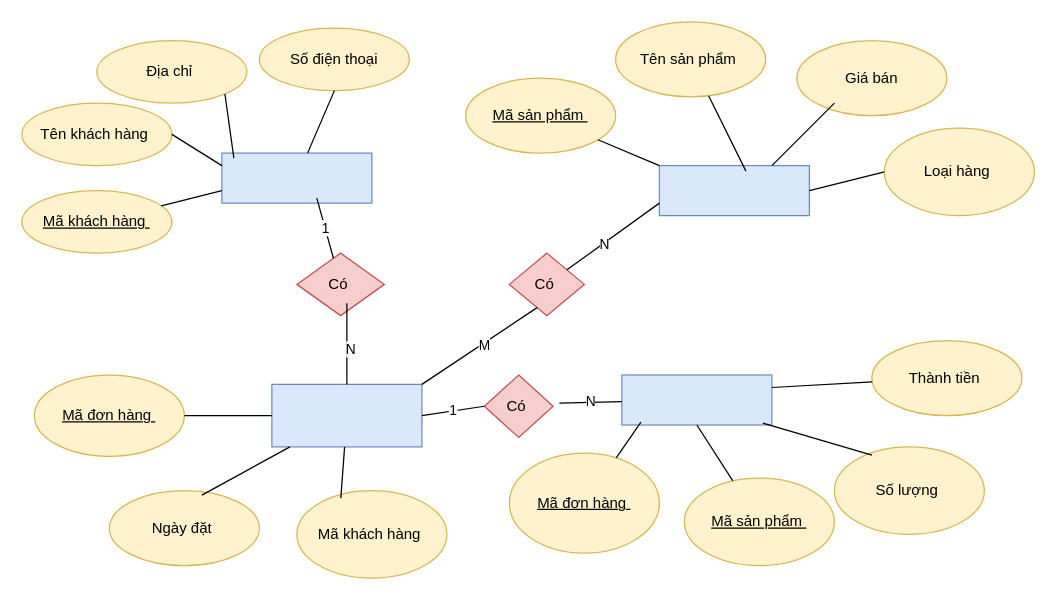
The diagram is 1056 pixels wide and 600 high, and some of its shapes have lost their labels. Here are the shapes that lost their labels. From the top down, the centre of each, then its label:
At point (296, 177): "Customer".
At point (733, 190): "Product".
At point (346, 415): "Order".
At point (696, 399): "OrderDetail".
